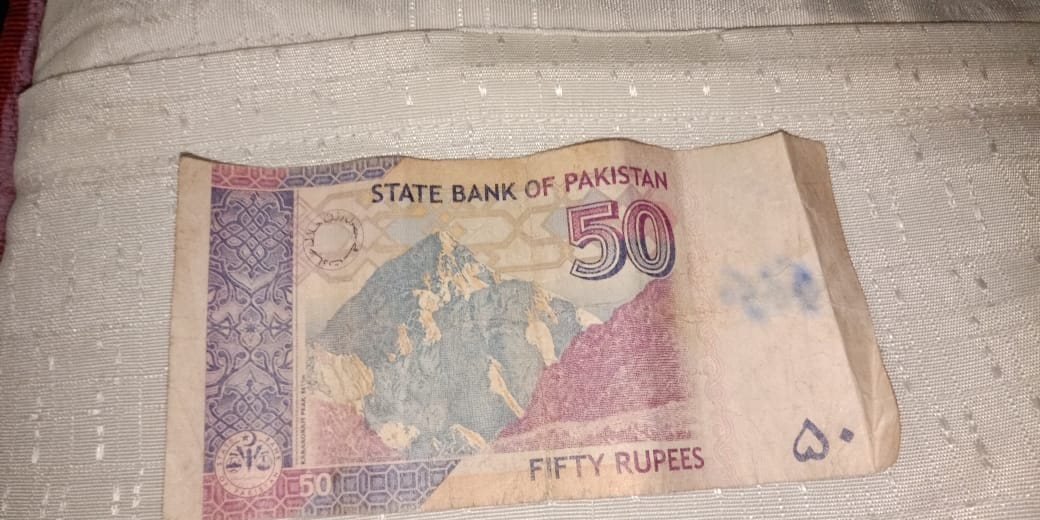50 rupee: (152, 142, 914, 513)
